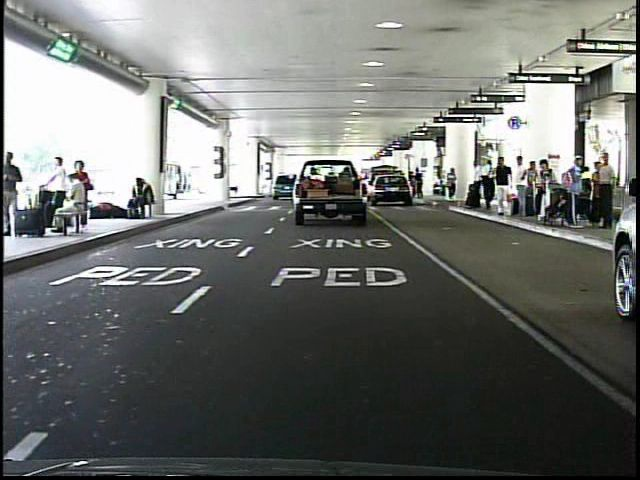person: (3, 151, 32, 239), (491, 153, 515, 221), (511, 154, 532, 220), (465, 154, 486, 213), (444, 166, 460, 204), (415, 167, 425, 203), (407, 168, 416, 200)
